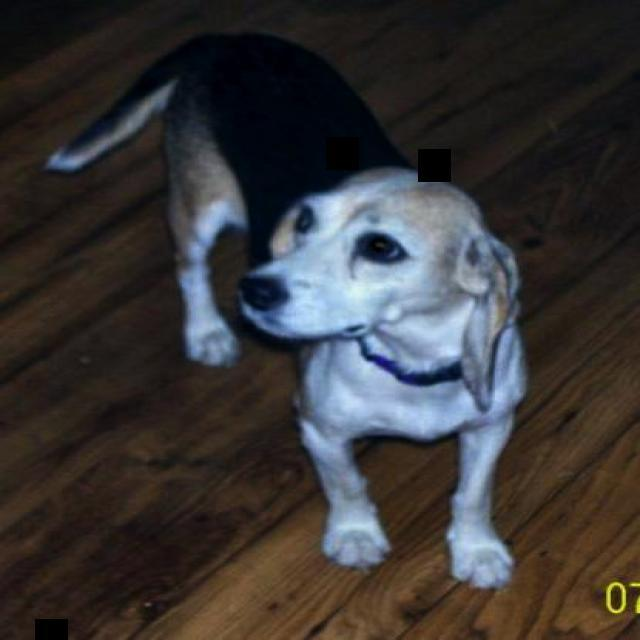adult_dog: (43, 26, 530, 592)
